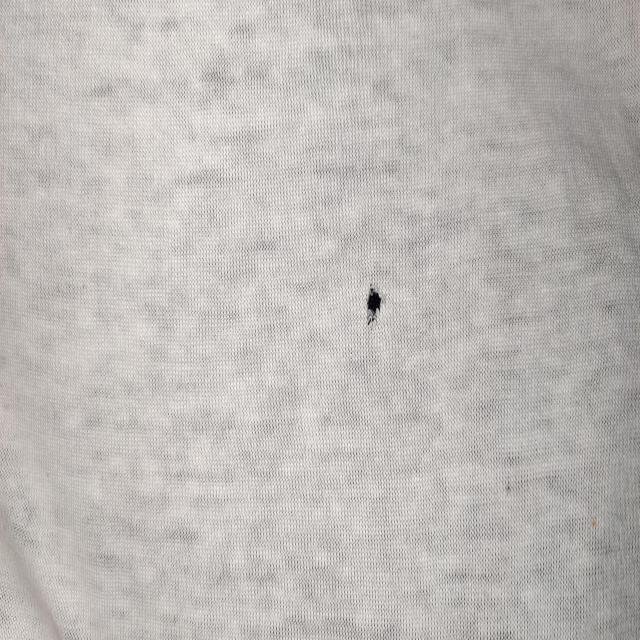Hole: (367, 288, 382, 327)
